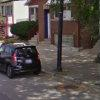Car: (1, 31, 46, 85)
